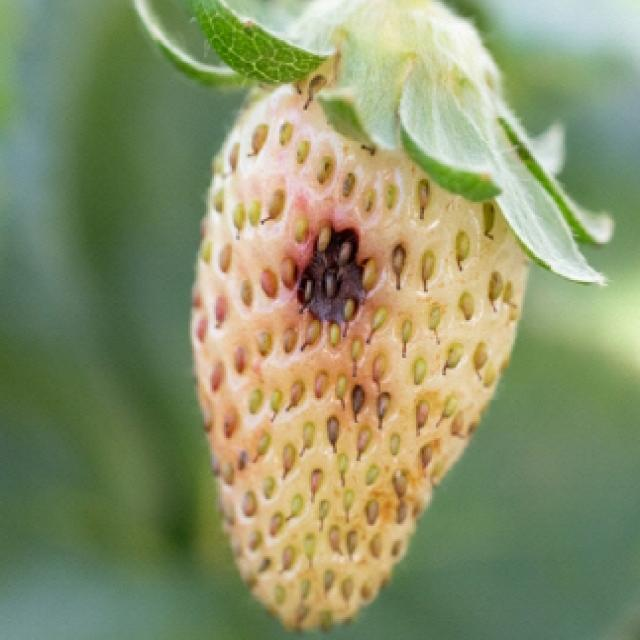Anthracnose Fruit Rot: (267, 194, 409, 373)
